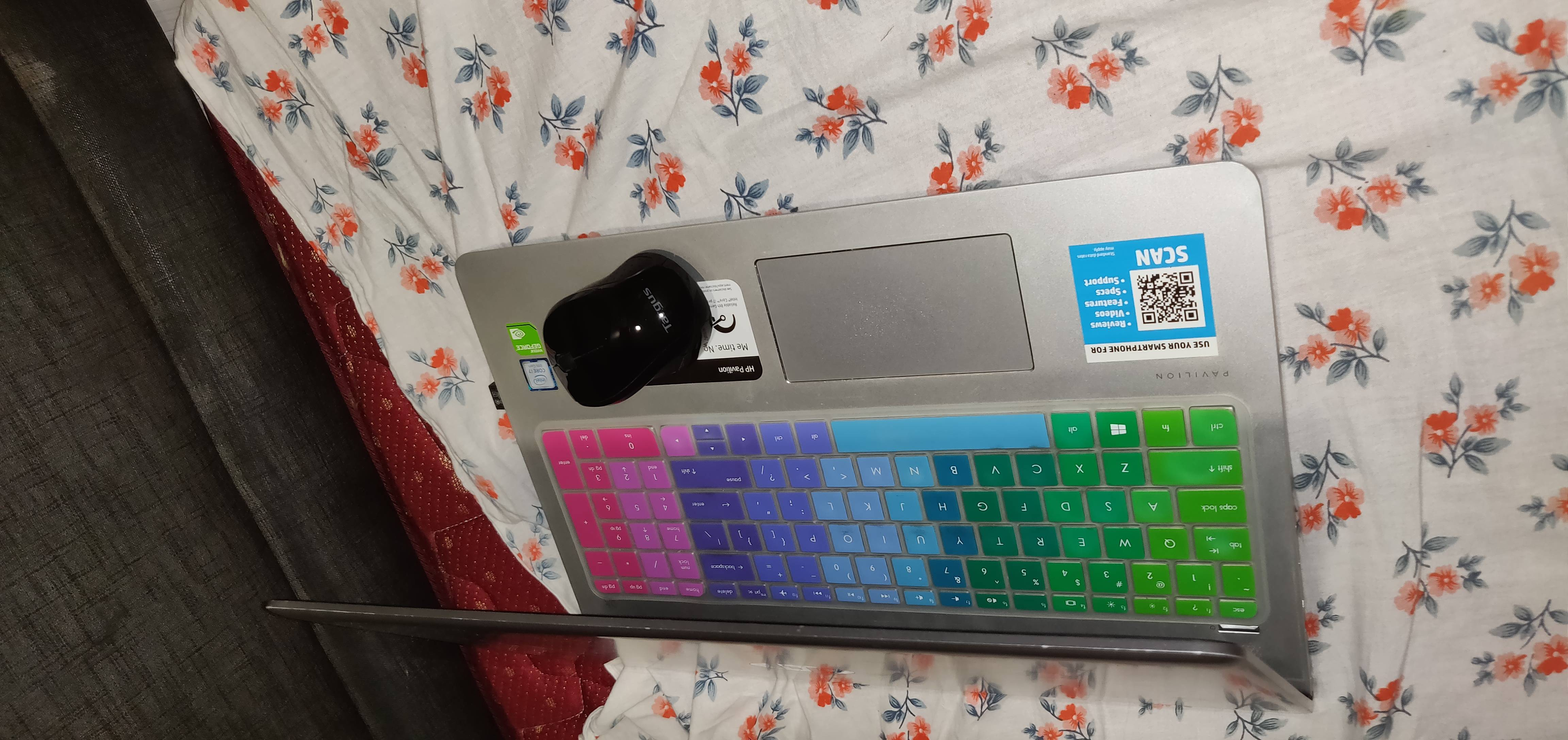Electronics: (237, 127, 1326, 723), (530, 240, 723, 422)
